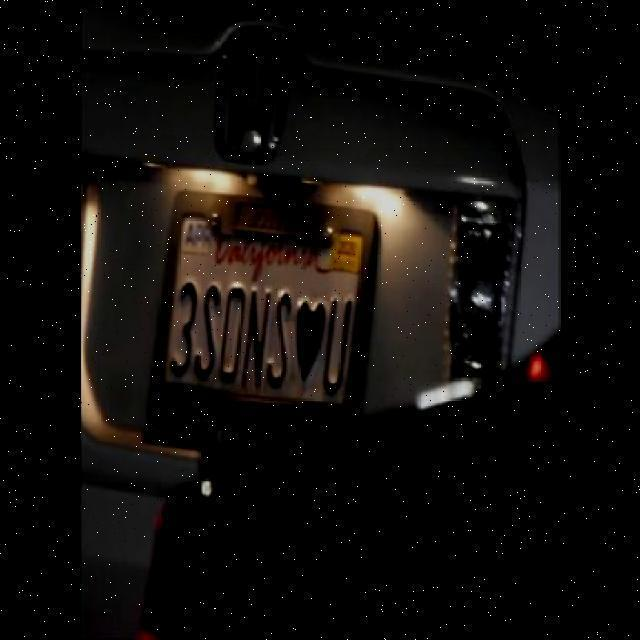LicensePlate: (146, 192, 378, 469)
